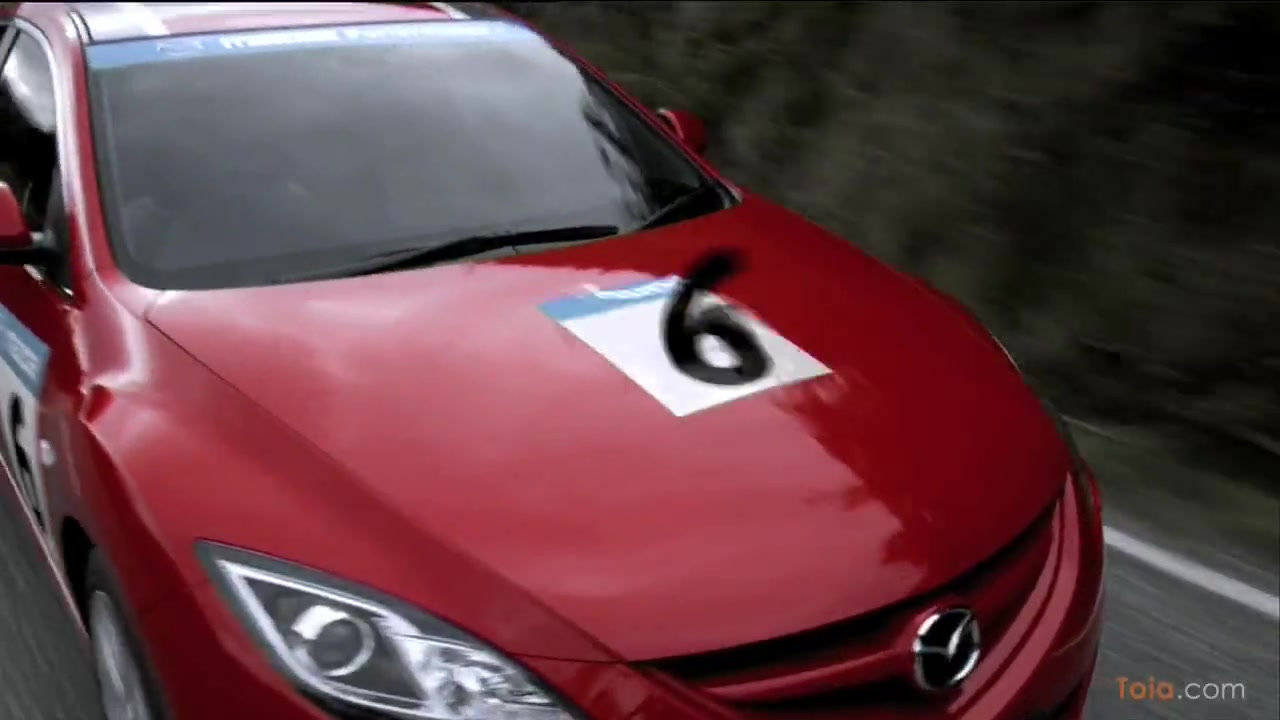car: (1, 1, 1112, 720)
